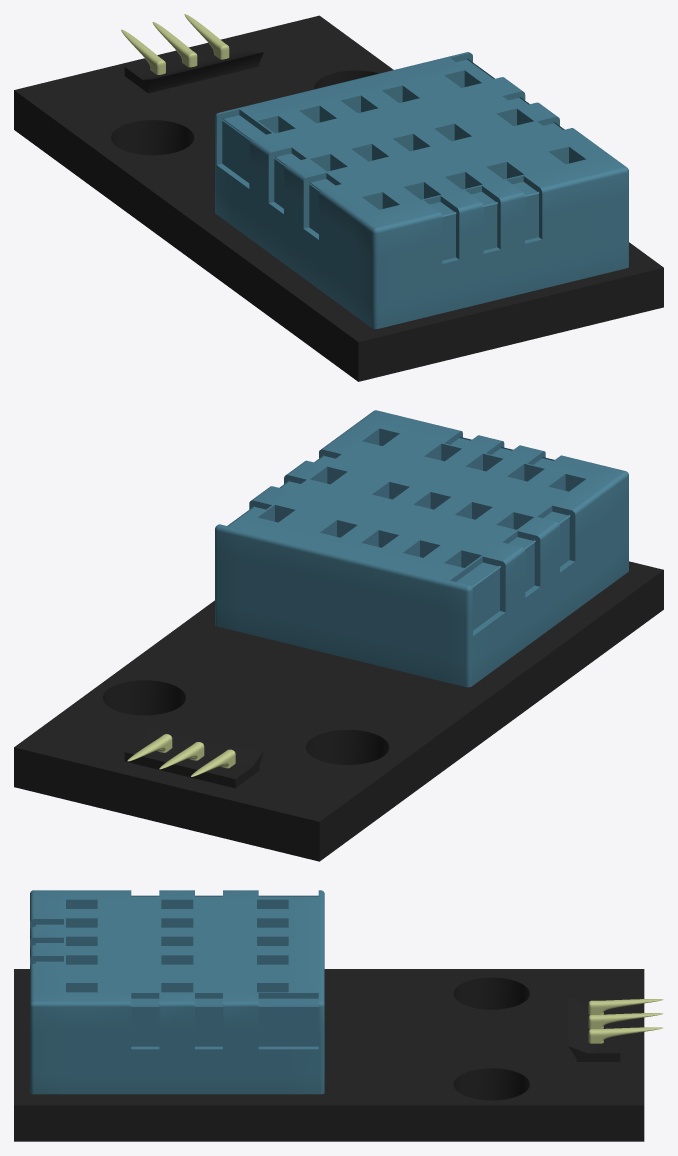
The model's file is Senzor.fbx.
3 renders of one model, top to bottom at view 1: azimuth 30°, elevation 25°; view 2: azimuth 150°, elevation 25°; view 3: azimuth 270°, elevation 25°, orthographic. The views are drawn at different scales.
Parts seen in each view (by area): view 1: Subdivision_Surface_3; view 2: Subdivision_Surface_3; view 3: Subdivision_Surface_3.
Part boxes in pixels (x1,y1,x2,y2): Subdivision_Surface_3: (14, 14, 663, 381); Subdivision_Surface_3: (14, 410, 663, 861); Subdivision_Surface_3: (14, 890, 663, 1141).
Size of the model in its own units: 102 by 44.63 by 206.
